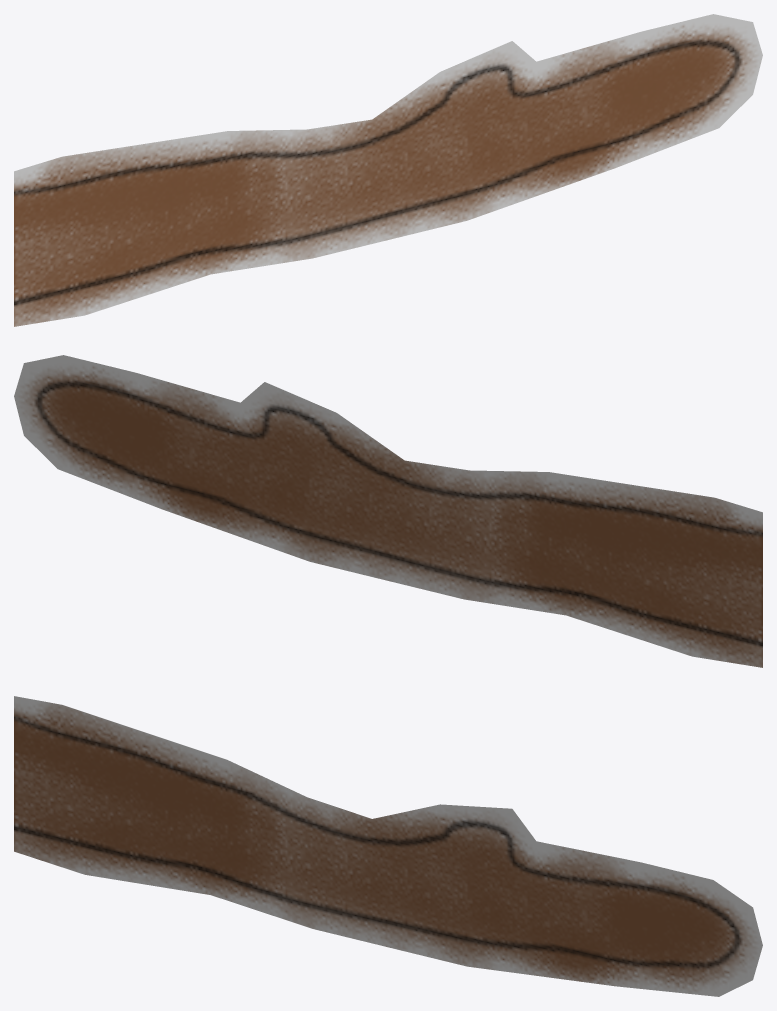
Rendered from Gren1.fbx.
3 views of the same model, one above another, from view 1: azimuth 30°, elevation 25°; view 2: azimuth 150°, elevation 25°; view 3: azimuth 330°, elevation 25° (orthographic).
Parts seen in each view (by area): view 1: Gren1; view 2: Gren1; view 3: Gren1.
Part boxes in pixels (x1,y1,x2,y2): Gren1: [14, 14, 762, 326]; Gren1: [14, 355, 762, 667]; Gren1: [14, 696, 762, 996].
Size of the model in its own units: 37.62 by 8.18 by 1.33e-06.
